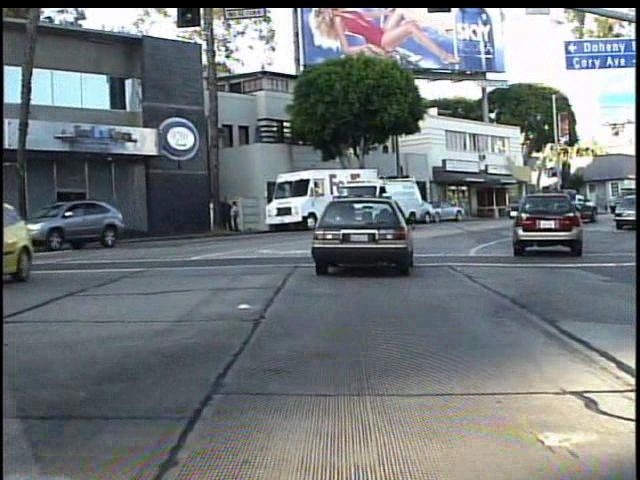person: (219, 194, 234, 234), (230, 199, 244, 235)
